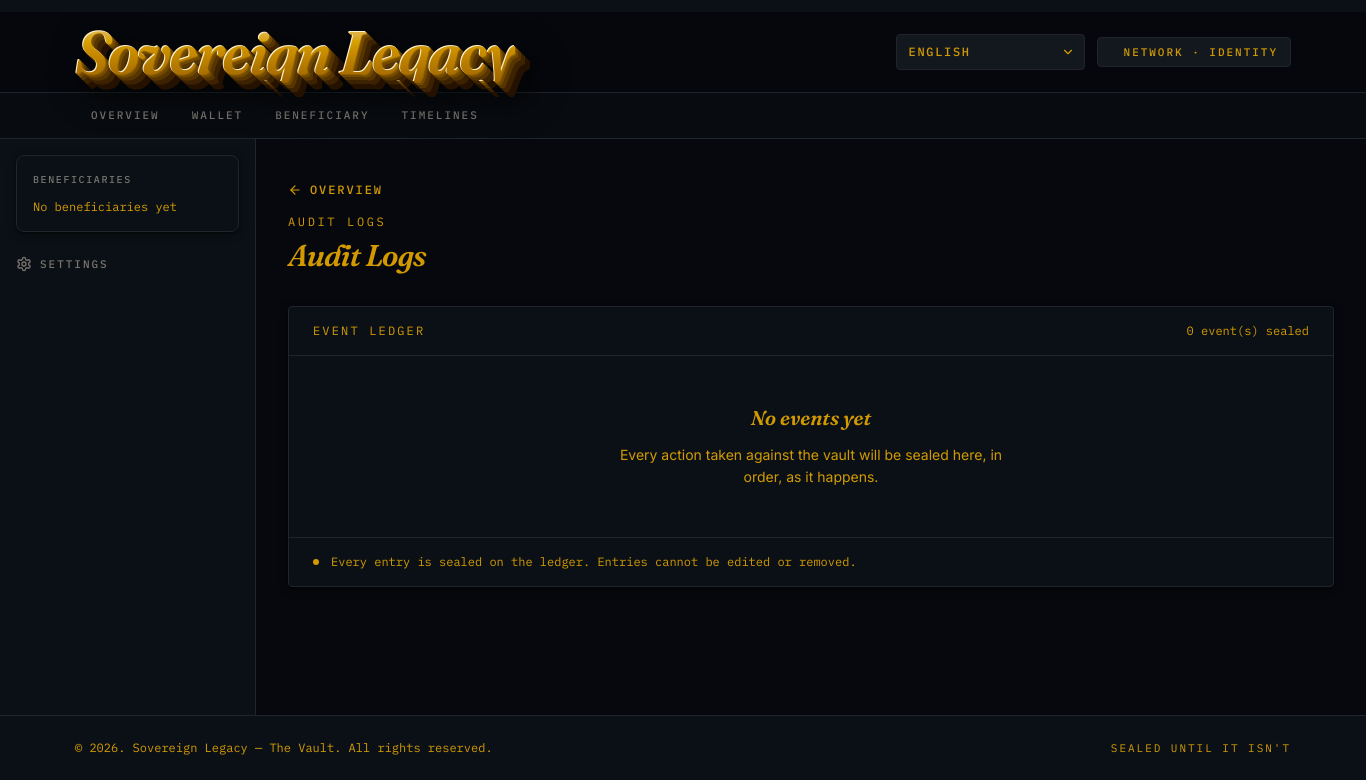
Test: AuditLogPage characterization (unchanged audit-log behavior) › localizes the empty-state and footer copy when switching language
Expected: the text "No events yet" is shown, [751,404,871,432]
Expected: the text "Every entry is sealed on the ledger" is shown, [331,554,857,569]
Select "Español" in the dropdown named "Language". click: (990, 52)
box: [896,34,1084,70]
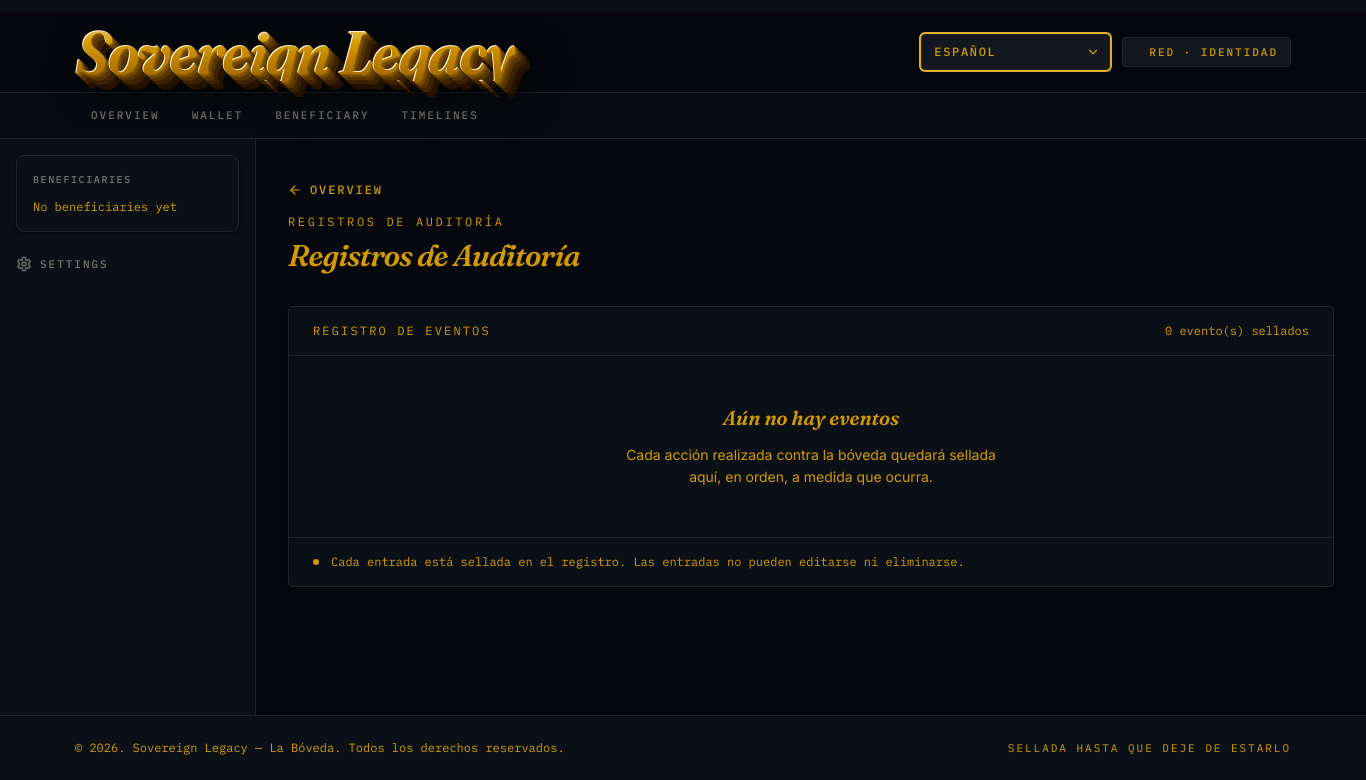
Result: the text "Aún no hay eventos" is shown at [723,404,899,432]
Result: the text "Cada entrada está sellada en el registro" is shown at [331,554,965,569]
